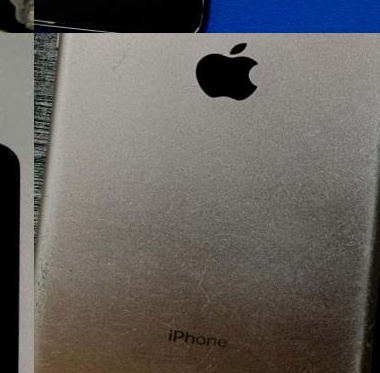scratch: (277, 216, 372, 279), (343, 312, 371, 370), (110, 33, 148, 73), (188, 254, 213, 311), (295, 335, 323, 373), (34, 257, 51, 314), (177, 355, 215, 373), (55, 18, 94, 31), (63, 354, 89, 373), (71, 57, 78, 66)
